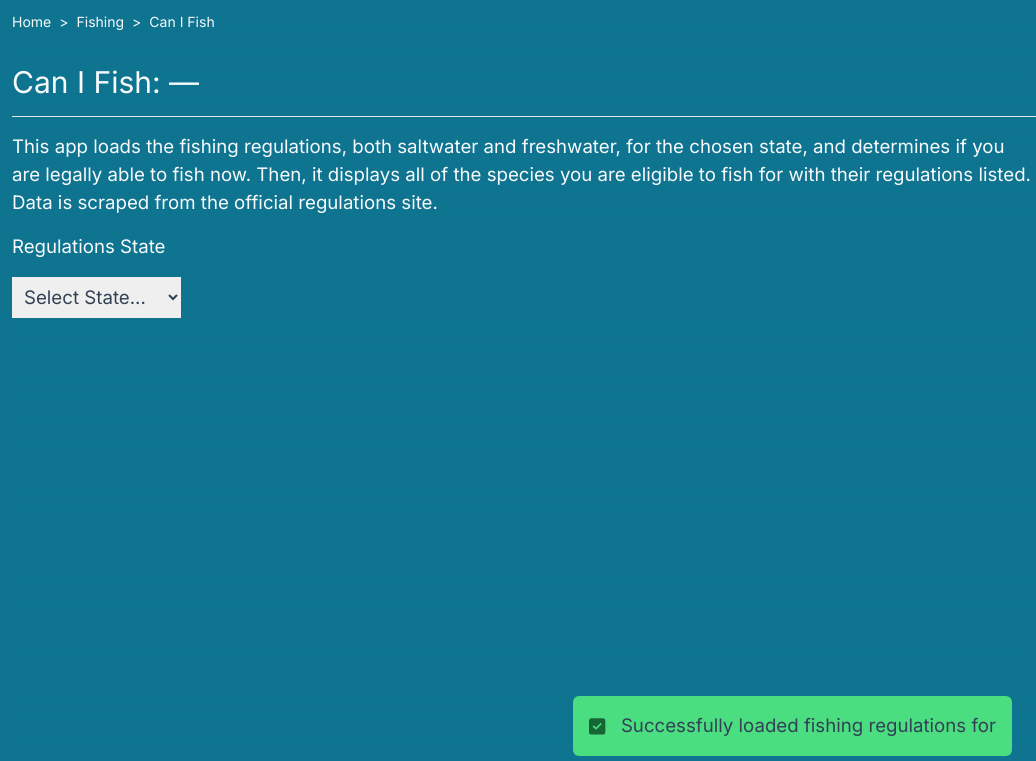
Test: CanIFish › renders when loading RI regulations
Select "Rhode Island" in the dropdown: (96, 298) 12,277 -> 181,318
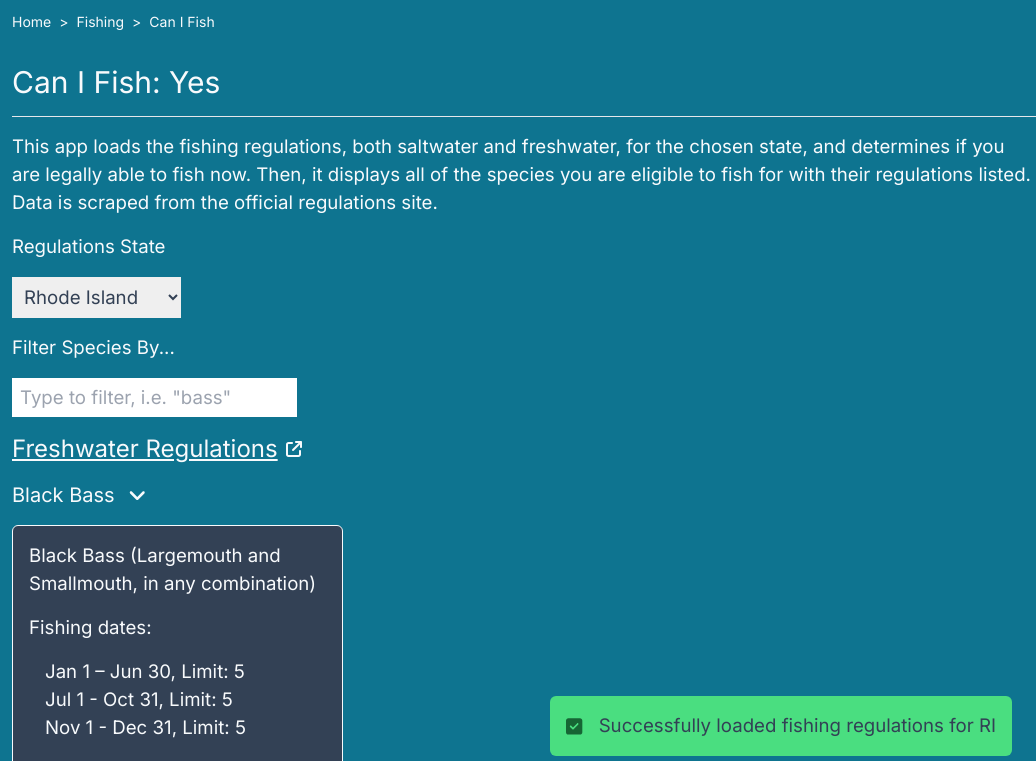
Now the text "Successfully loaded fishing regulations for RI" is shown, box 550,696 -> 1012,756
